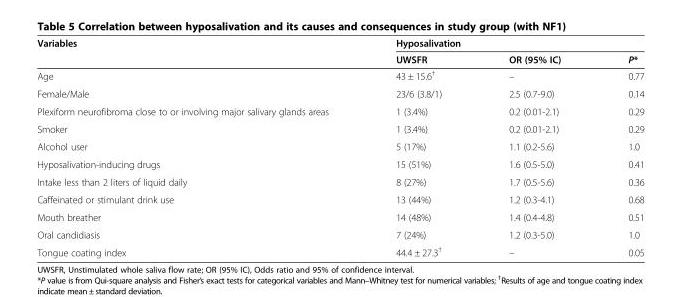table: (36, 36, 643, 257)
table column: (36, 36, 361, 257), (474, 36, 593, 257), (361, 36, 474, 257), (593, 36, 643, 257)
table column header: (36, 36, 643, 66)
table row: (36, 66, 643, 84), (36, 84, 643, 102), (36, 119, 643, 137), (36, 137, 643, 155), (36, 172, 643, 190), (36, 190, 643, 208), (36, 102, 643, 119), (36, 155, 643, 172), (36, 208, 643, 225), (36, 225, 643, 242), (36, 50, 643, 66), (36, 242, 643, 257), (36, 36, 643, 50)
table spanning cell: (36, 36, 361, 66), (361, 36, 643, 50)
